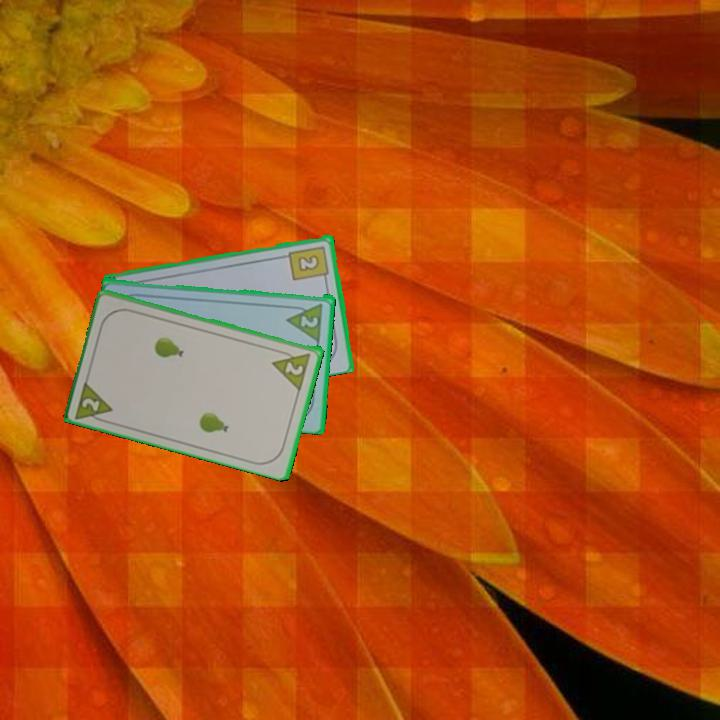2b: (286, 242, 332, 284)
2p: (72, 376, 116, 426), (269, 345, 314, 392), (297, 312, 321, 330)
